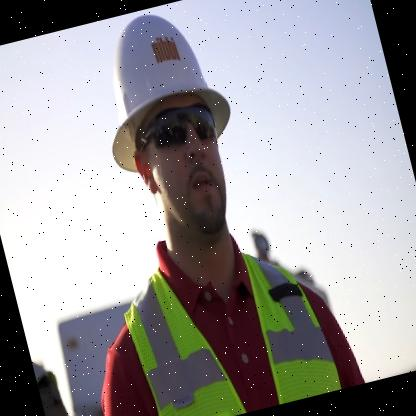capacete: (72, 0, 249, 177)
oculos: (121, 93, 229, 162)
